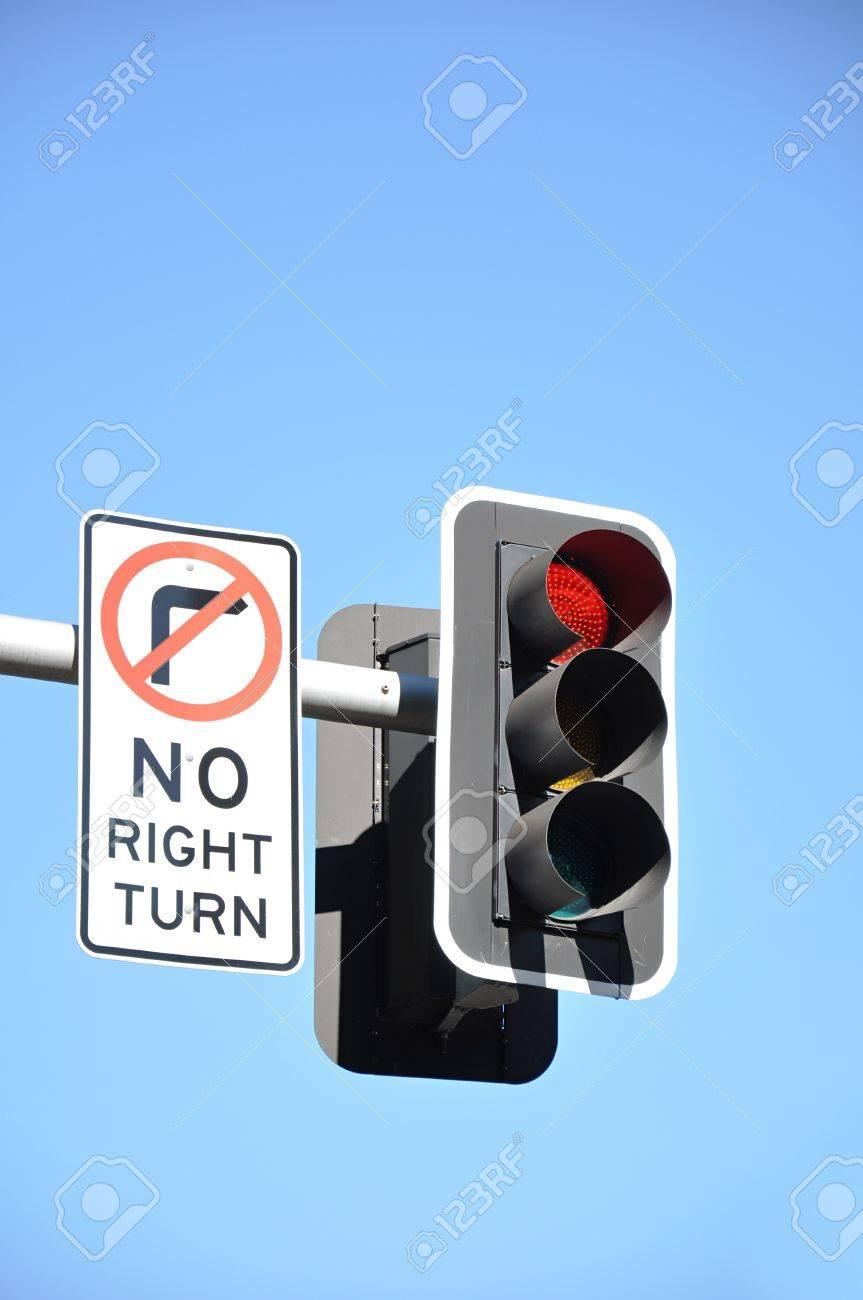no_right_turn: (100, 539, 283, 722)
